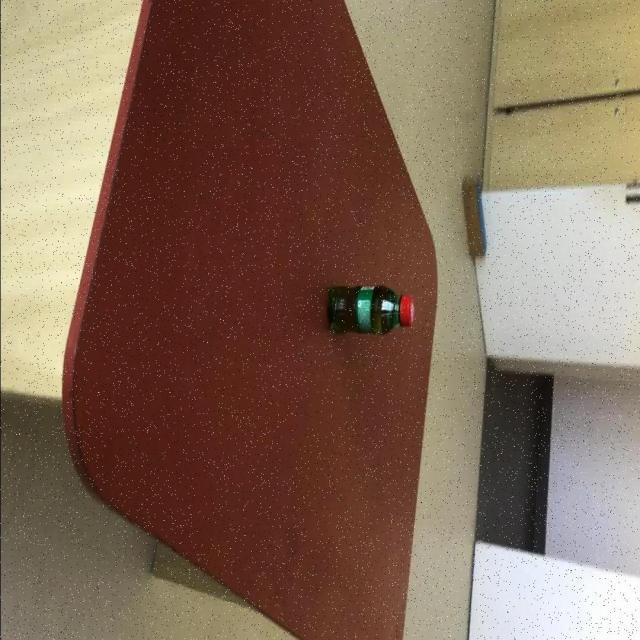Guarana: (327, 285, 415, 339), (354, 286, 415, 338)
